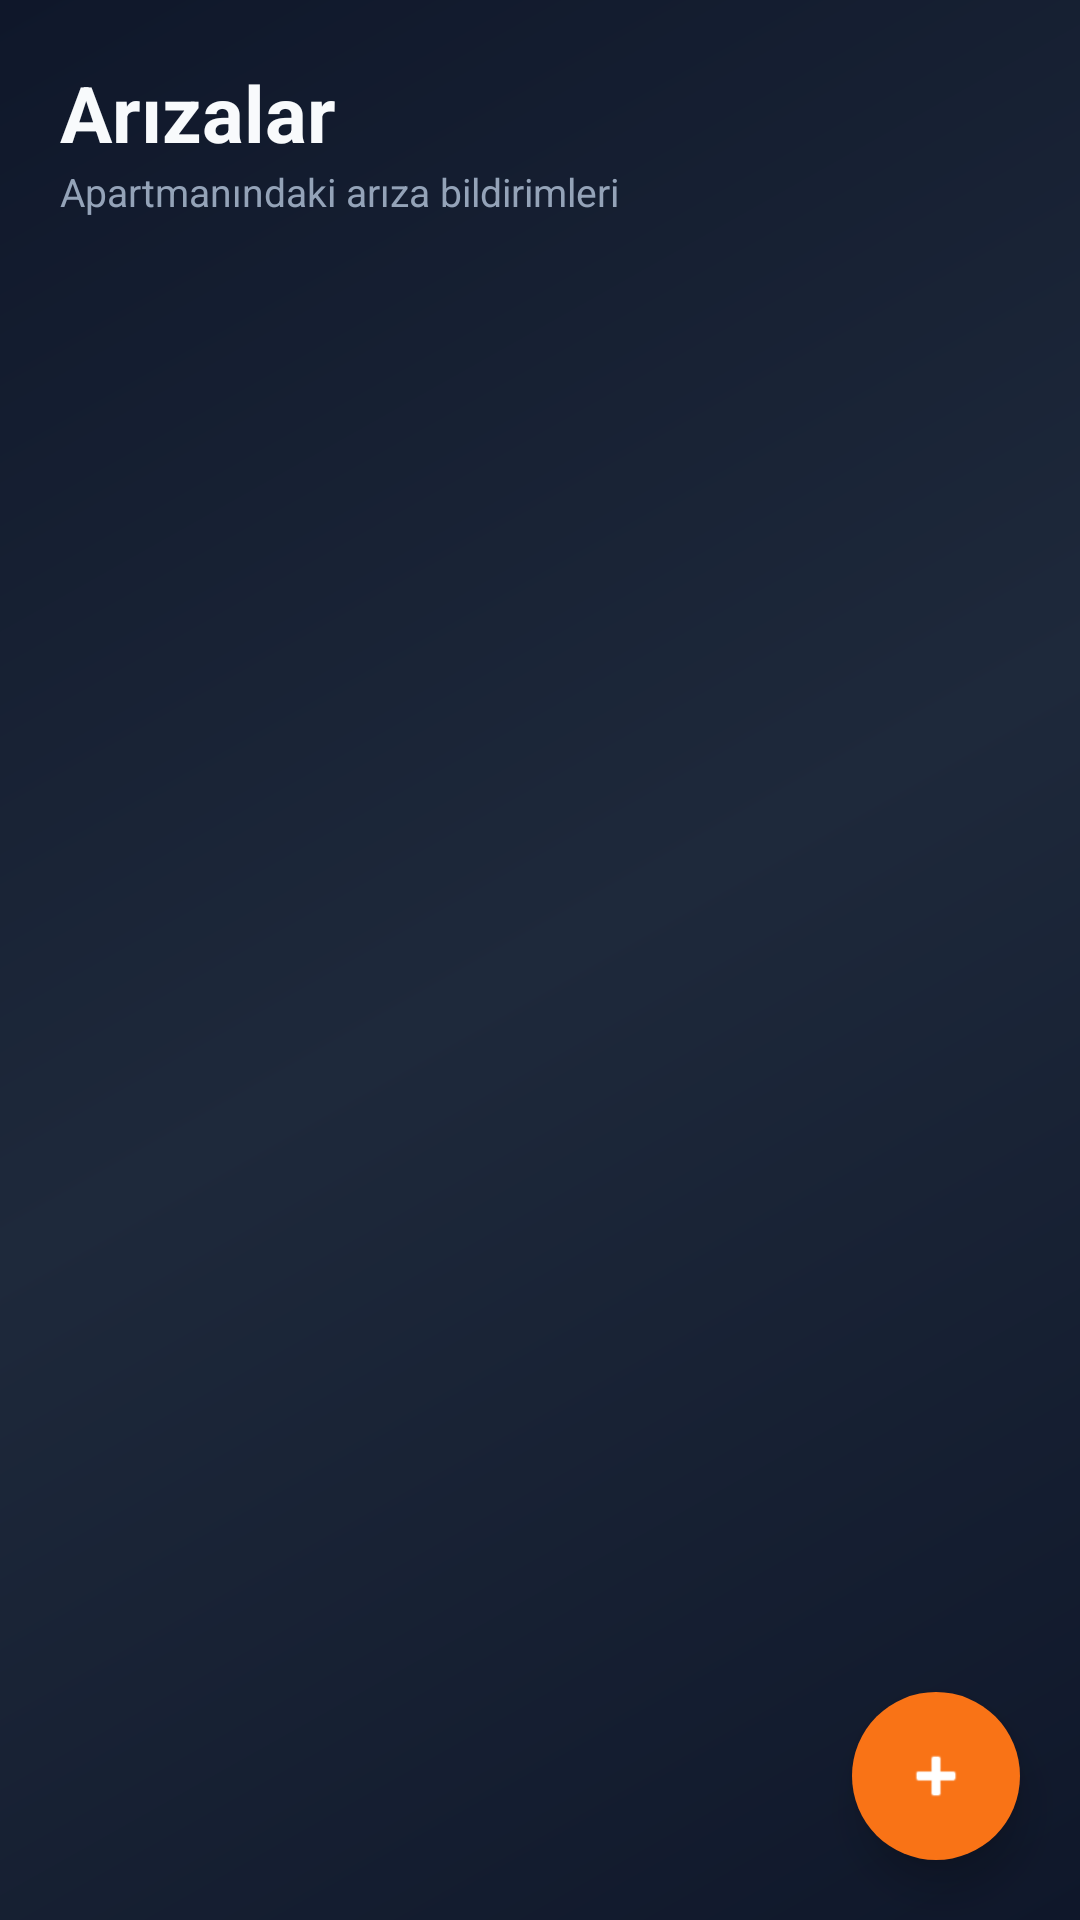

Where icons sit on this 1080px×1920px app screen, as (x1, y1, x2, y2):
add: (852, 1692, 1020, 1860)
